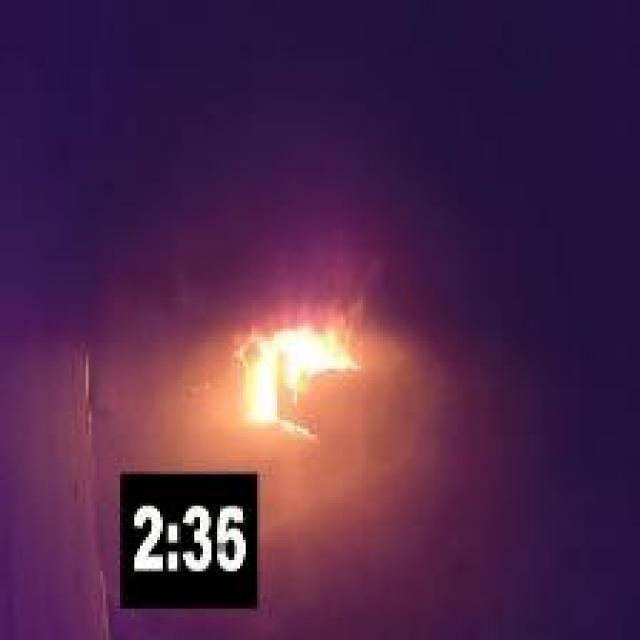Fire: (245, 328, 362, 441)
